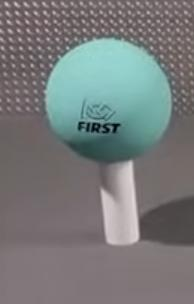algae: (45, 37, 173, 163)
coral: (98, 159, 141, 247)
